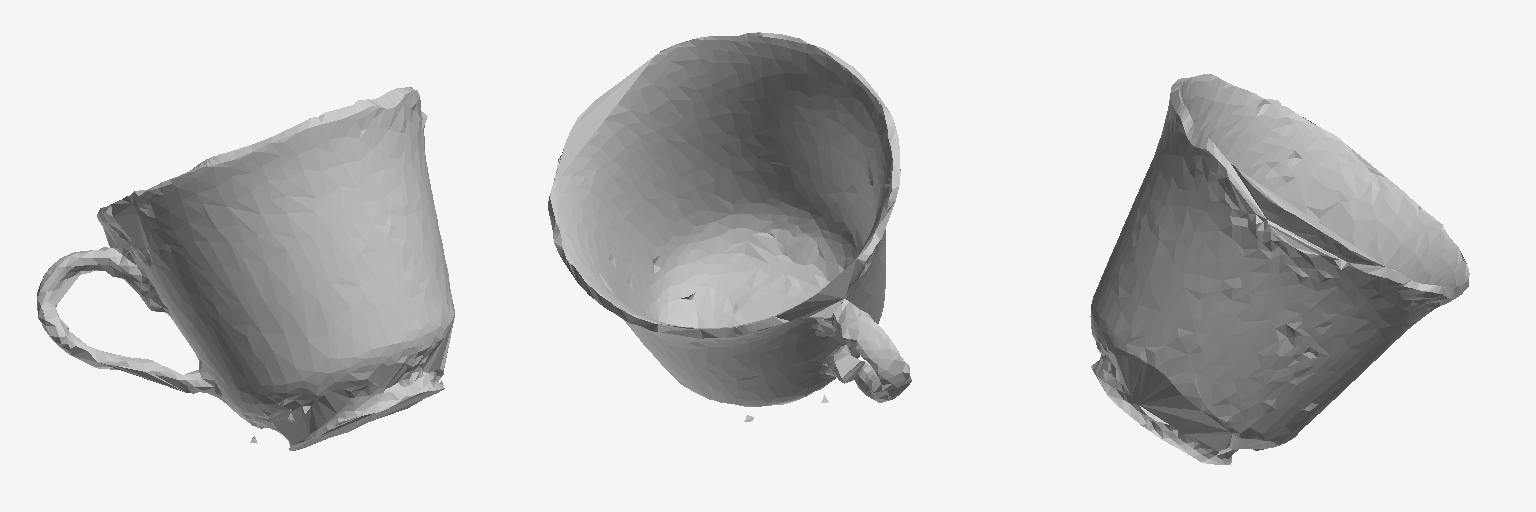
The model's file is fruits.obj.
3 renders of one model, left to right at view 1: azimuth 30°, elevation 25°; view 2: azimuth 150°, elevation 25°; view 3: azimuth 270°, elevation 25°, orthographic.
Size of the model in its own units: 107 by 100 by 97.59.